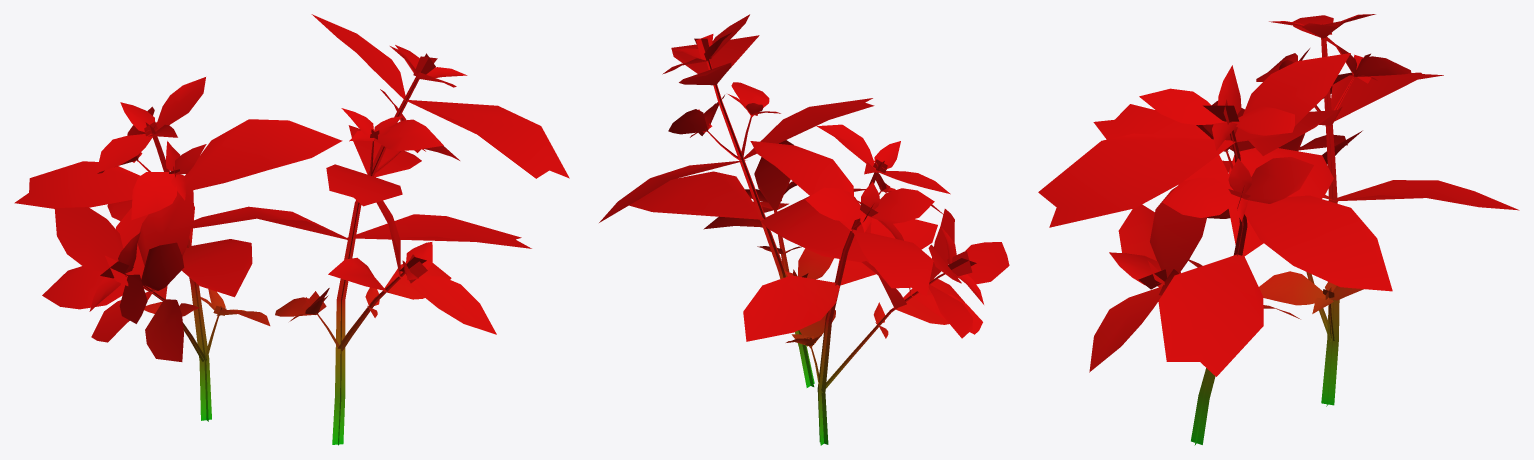
File: Common Hemp Nettle_LOD5_Var3_xh1kdfbqx.fbx
3 views of the same model, side by side, from view 1: azimuth 30°, elevation 25°; view 2: azimuth 150°, elevation 25°; view 3: azimuth 270°, elevation 25° (orthographic). The views are drawn at different scales.
Visible parts, largest first — view 1: _abnf_Var3_LOD5; view 2: _abnf_Var3_LOD5; view 3: _abnf_Var3_LOD5.
Part boxes in pixels (box(x1,y1,x2,y2)): _abnf_Var3_LOD5: box(14, 14, 569, 445); _abnf_Var3_LOD5: box(599, 14, 1009, 445); _abnf_Var3_LOD5: box(1038, 14, 1519, 445).
Bounding box in the file's own units: 59.59 × 50.31 × 52.78.
